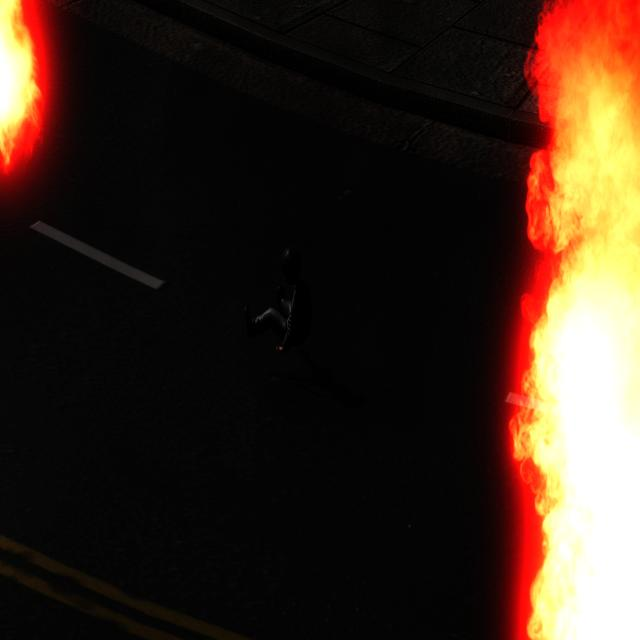Human: (244, 238, 310, 360)
